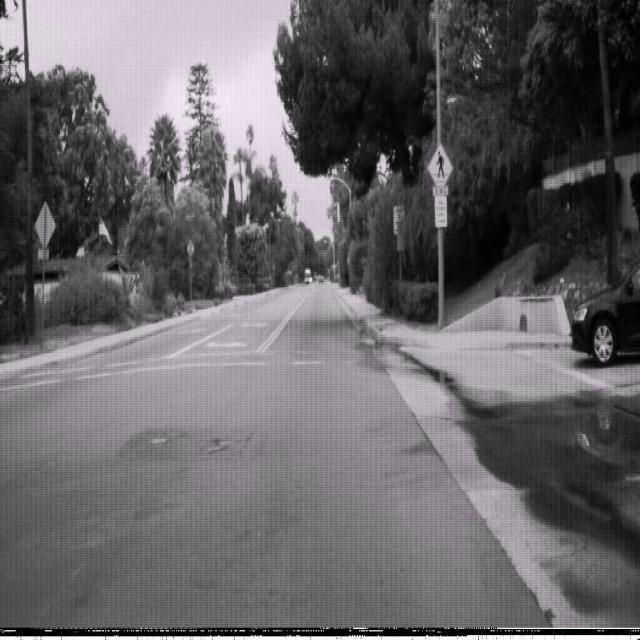pedestrianCrossing: (426, 141, 454, 194)
